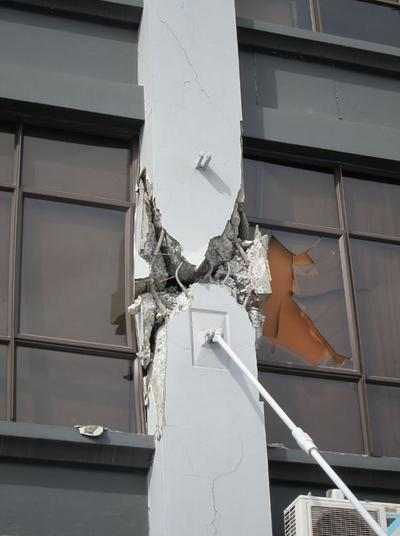Shattering Glass Window: (253, 221, 374, 379)
Shear/diagonal failure Short/captive column: (133, 163, 262, 394)
